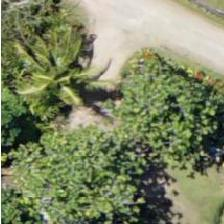coconut_tree: (2, 25, 92, 115)
